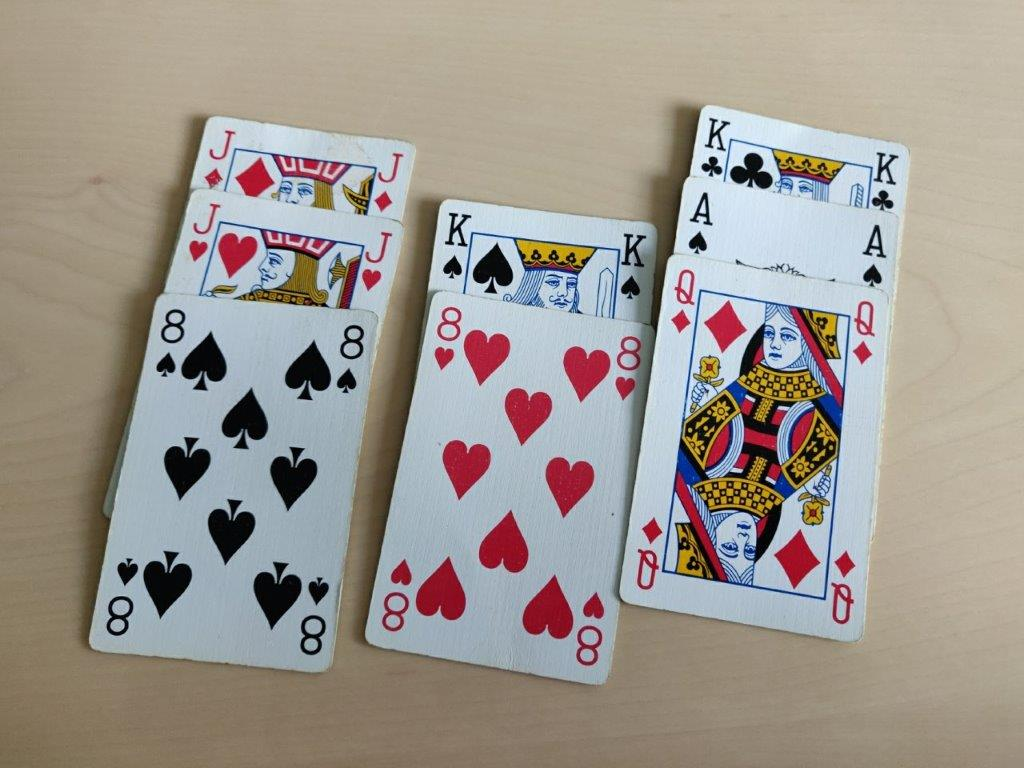8H: (612, 334, 644, 403), (431, 305, 463, 370)
8S: (153, 308, 187, 380), (332, 320, 364, 396)
AS: (860, 219, 891, 291), (684, 188, 715, 259)
JD: (200, 125, 236, 191), (371, 146, 403, 215)
JH: (355, 228, 393, 291), (184, 202, 222, 264)
KC: (700, 113, 733, 178), (870, 149, 903, 214)
KS: (615, 226, 652, 302), (436, 206, 473, 281)
QD: (667, 264, 700, 337), (848, 296, 881, 369)
